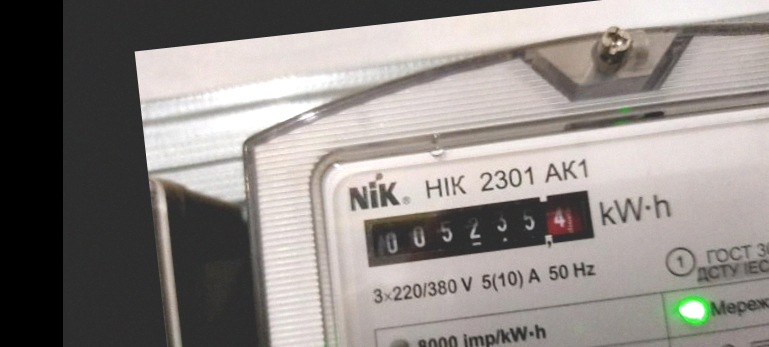0: (410, 223, 428, 248), (383, 228, 400, 254)
2: (465, 213, 483, 240)
3: (491, 206, 511, 233)
4: (549, 200, 570, 231)
5: (519, 203, 538, 232), (438, 217, 454, 243)
screen: (349, 178, 605, 276)
